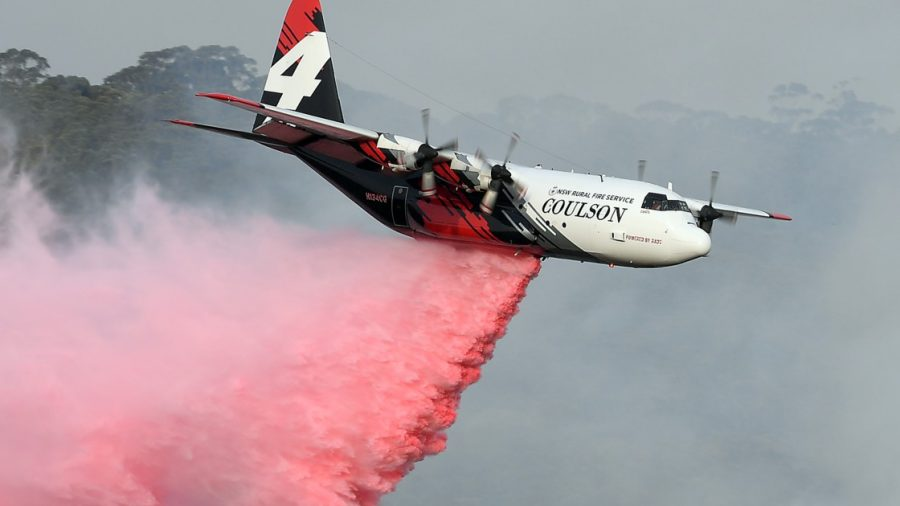Aeronef_de_service: (115, 1, 812, 283)
